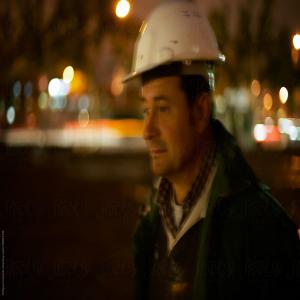white: (132, 6, 225, 177)
